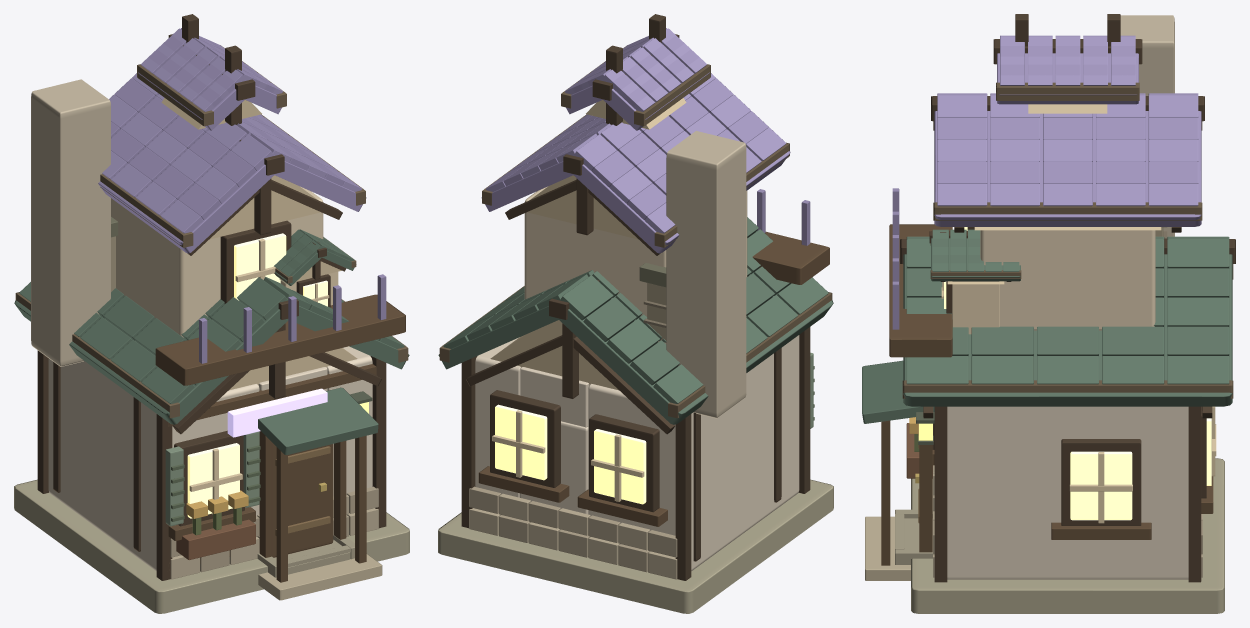
The model's file is workshop-3-1.glb.
3 renders of one model, left to right at view 1: azimuth 30°, elevation 25°; view 2: azimuth 150°, elevation 25°; view 3: azimuth 270°, elevation 25°, orthographic. The views are drawn at different scales.
Visible parts, largest first — view 1: workshop-1-3, door-hinge; view 2: workshop-1-3; view 3: workshop-1-3.
Part boxes in pixels (x1=…): workshop-1-3: x1=14, y1=14, x2=409, y2=613; door-hinge: x1=271, y1=442, x2=333, y2=557; workshop-1-3: x1=438, y1=14, x2=833, y2=613; workshop-1-3: x1=862, y1=14, x2=1235, y2=613.
Bounding box in the file's own units: 1.91 × 3.51 × 2.24.
